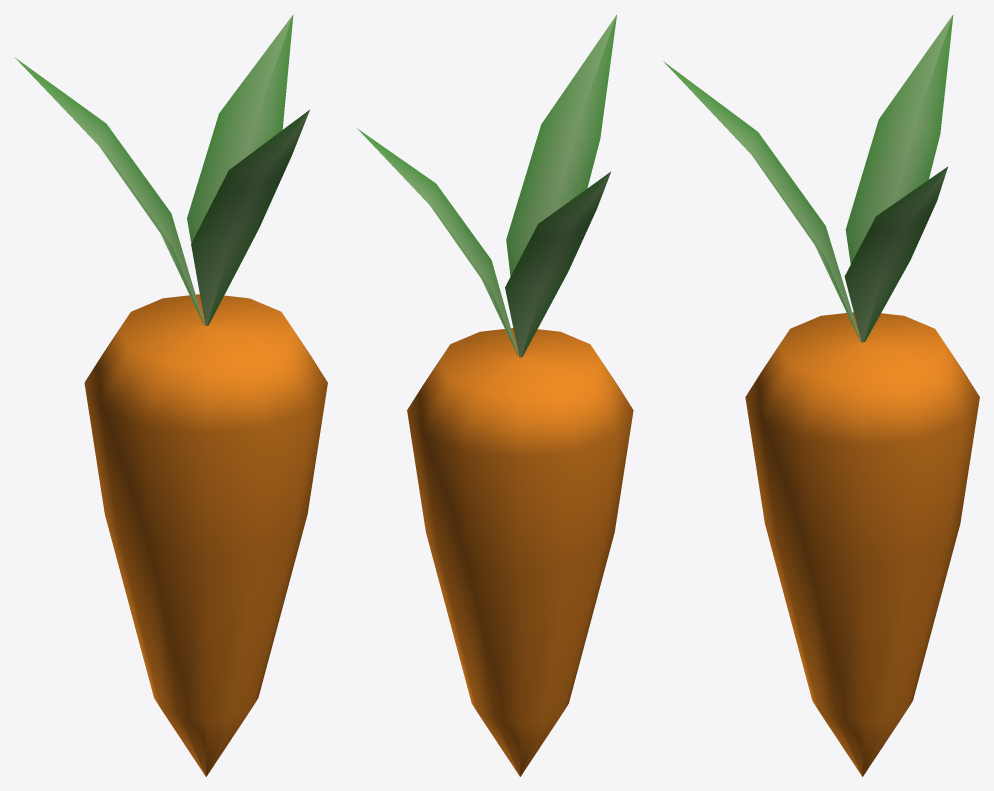
File: fruit-carrot-gold.glb
3 renders of one model, left to right at view 1: azimuth 30°, elevation 25°; view 2: azimuth 150°, elevation 25°; view 3: azimuth 270°, elevation 25°, orthographic. The views are drawn at different scales.
Parts seen in each view (by area): view 1: fruit-carrot; view 2: fruit-carrot; view 3: fruit-carrot.
Boxes of the visible parts, x1,y1,x2,y2 form: fruit-carrot: (14,14,327,776); fruit-carrot: (357,15,633,776); fruit-carrot: (663,14,979,776).
Size of the model in its own units: 0.2426 by 0.6229 by 0.2504.
